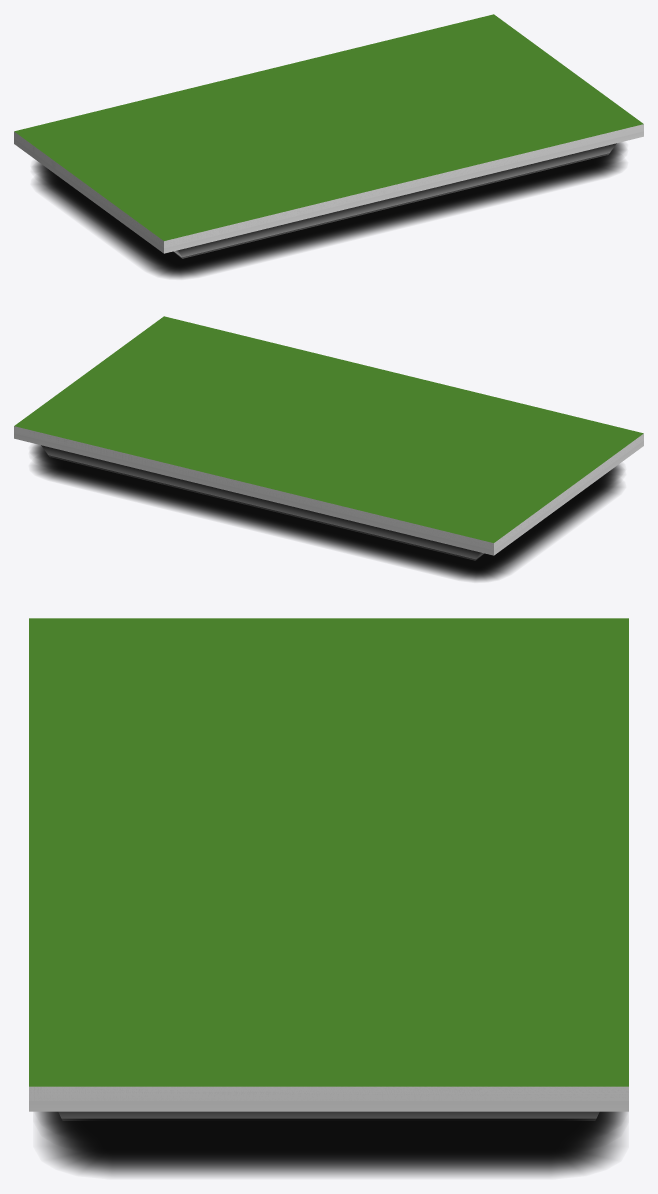
File: pitch_0000_default.glb
The picture shows the model from 3 angles, top to bottom: view 1: azimuth 30°, elevation 25°; view 2: azimuth 150°, elevation 25°; view 3: azimuth 270°, elevation 25°; orthographic projection. The views are drawn at different scales.
Parts seen in each view (by area): view 1: pitch, shadow_2, depth_2, shadow_3, depth_1, shadow_1; view 2: pitch, shadow_2, depth_2, shadow_3, depth_1, shadow_1; view 3: pitch, shadow_2, shadow_3, depth_2, shadow_1, depth_1.
Part boxes in pixels (x1,y1,x2,y2): pitch: (14, 14, 643, 240); shadow_2: (34, 156, 624, 278); depth_2: (14, 124, 643, 258); shadow_3: (34, 144, 623, 265); depth_1: (14, 124, 643, 247); shadow_1: (34, 142, 624, 260); pitch: (14, 316, 643, 542); shadow_2: (32, 459, 622, 581); depth_2: (14, 426, 643, 560); shadow_3: (32, 446, 622, 568); depth_1: (14, 426, 643, 550); shadow_1: (32, 444, 622, 563); pitch: (29, 618, 628, 1086); shadow_2: (40, 1112, 622, 1176); shadow_3: (40, 1112, 621, 1151); depth_2: (29, 1086, 628, 1120); shadow_1: (41, 1111, 621, 1140); depth_1: (29, 1086, 628, 1100).
Bounding box in the file's own units: 2809 × 260 × 1521.
4 materials, 3 textured.
